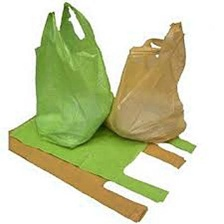plastic_bag: (2, 110, 203, 222), (7, 94, 203, 204), (27, 0, 117, 150), (101, 19, 195, 147)
